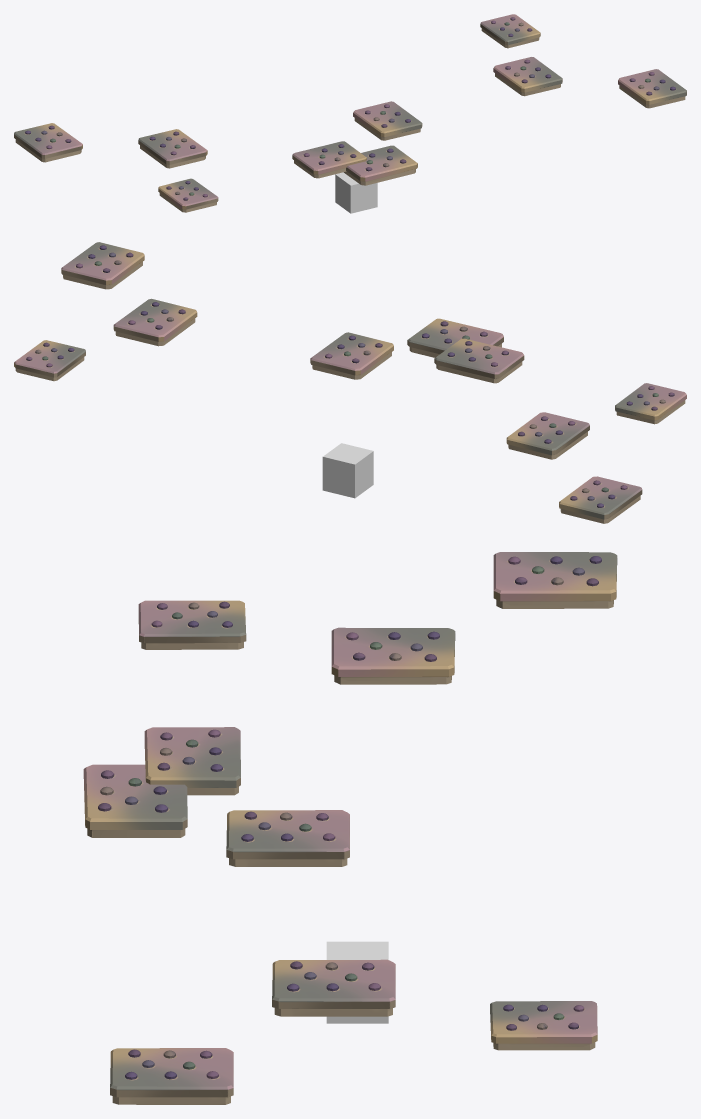
The model's file is battlescence-1-floor001.fbx.
3 views of the same model, one above another, from view 1: azimuth 30°, elevation 25°; view 2: azimuth 150°, elevation 25°; view 3: azimuth 270°, elevation 25° (orthographic). The views are drawn at different scales.
Visible parts, largest first — view 1: floor.013, floor.008, floor.010, floor.011, floor.007, floor.006, floor.012, floor.005, floor.009, battlescence-1-floor001; view 2: floor.012, floor.006, floor.010, floor.011, floor.007, floor.008, battlescence-1-floor001, floor.013, floor.005, floor.009; view 3: floor.010, floor.006, floor.011, floor.007, floor.008, floor.013, floor.012, floor.009, floor.005, battlescence-1-floor001.
Part boxes in pixels (box(x1,y1,x2,y2)): floor.013: box(344, 145, 417, 185); floor.008: box(353, 101, 422, 140); floor.010: box(138, 129, 207, 168); floor.011: box(14, 123, 82, 162); floor.007: box(618, 69, 686, 108); floor.006: box(493, 57, 562, 96); floor.012: box(292, 141, 366, 178); floor.005: box(480, 14, 540, 48); floor.009: box(158, 178, 218, 212); battlescence-1-floor001: box(335, 172, 377, 213); floor.012: box(434, 338, 524, 383); floor.006: box(113, 298, 197, 346); floor.010: box(506, 412, 589, 459); floor.011: box(559, 476, 642, 523); floor.007: box(61, 242, 144, 289); floor.008: box(310, 332, 393, 379); battlescence-1-floor001: box(322, 443, 373, 498); floor.013: box(407, 318, 503, 357); floor.005: box(14, 340, 85, 381); floor.009: box(615, 383, 686, 424); floor.010: box(331, 627, 455, 684); floor.006: box(272, 959, 395, 1016); floor.011: box(493, 552, 617, 608); floor.007: box(110, 1048, 233, 1104); floor.008: box(226, 810, 349, 866); floor.013: box(83, 764, 187, 837); floor.012: box(144, 727, 240, 795); floor.009: box(138, 600, 246, 649); floor.005: box(490, 1001, 597, 1050); battlescence-1-floor001: box(326, 941, 388, 1023).
Bounding box in the file's own units: 3007 × 521 × 1264.
